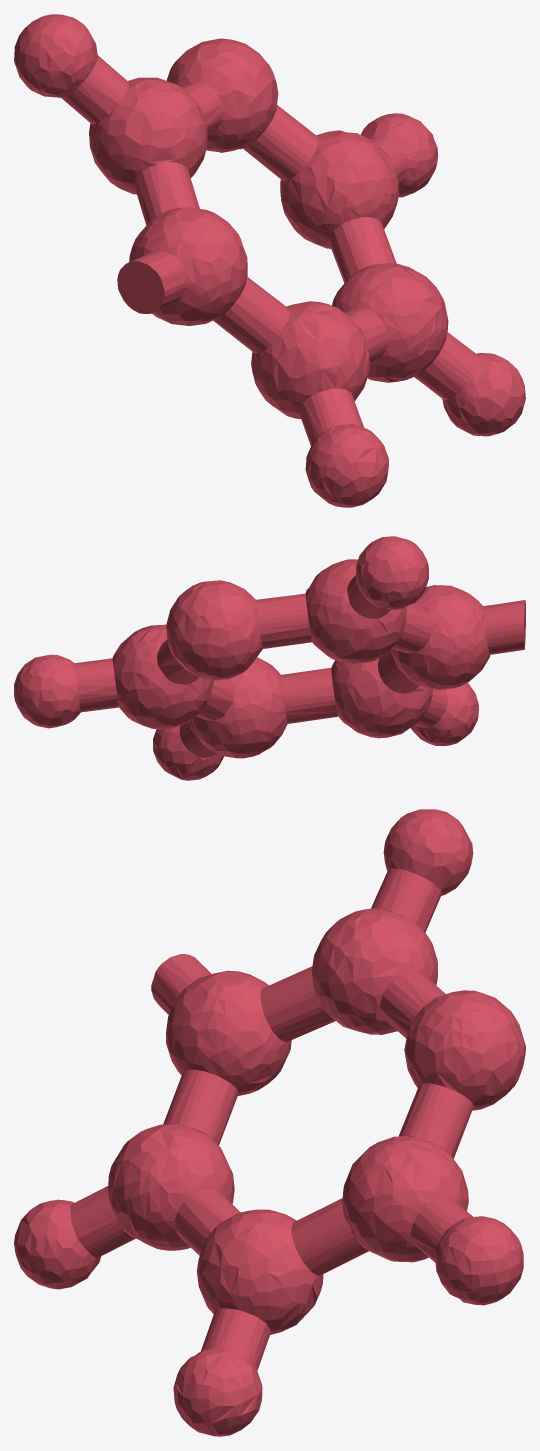
File: molpiece1.glb
The picture shows the model from 3 angles, top to bottom: view 1: azimuth 30°, elevation 25°; view 2: azimuth 150°, elevation 25°; view 3: azimuth 270°, elevation 25°; orthographic projection. The views are drawn at different scales.
Parts seen in each view (by area): view 1: Mesh_Mesh_head_geo.001_lambert2SG.001; view 2: Mesh_Mesh_head_geo.001_lambert2SG.001; view 3: Mesh_Mesh_head_geo.001_lambert2SG.001.
Part boxes in pixels (<box>): Mesh_Mesh_head_geo.001_lambert2SG.001: <box>14,14,525,507</box>; Mesh_Mesh_head_geo.001_lambert2SG.001: <box>14,536,525,780</box>; Mesh_Mesh_head_geo.001_lambert2SG.001: <box>14,809,525,1436</box>.
Bounding box in the file's own units: 35.96 × 32.6 × 33.76.
